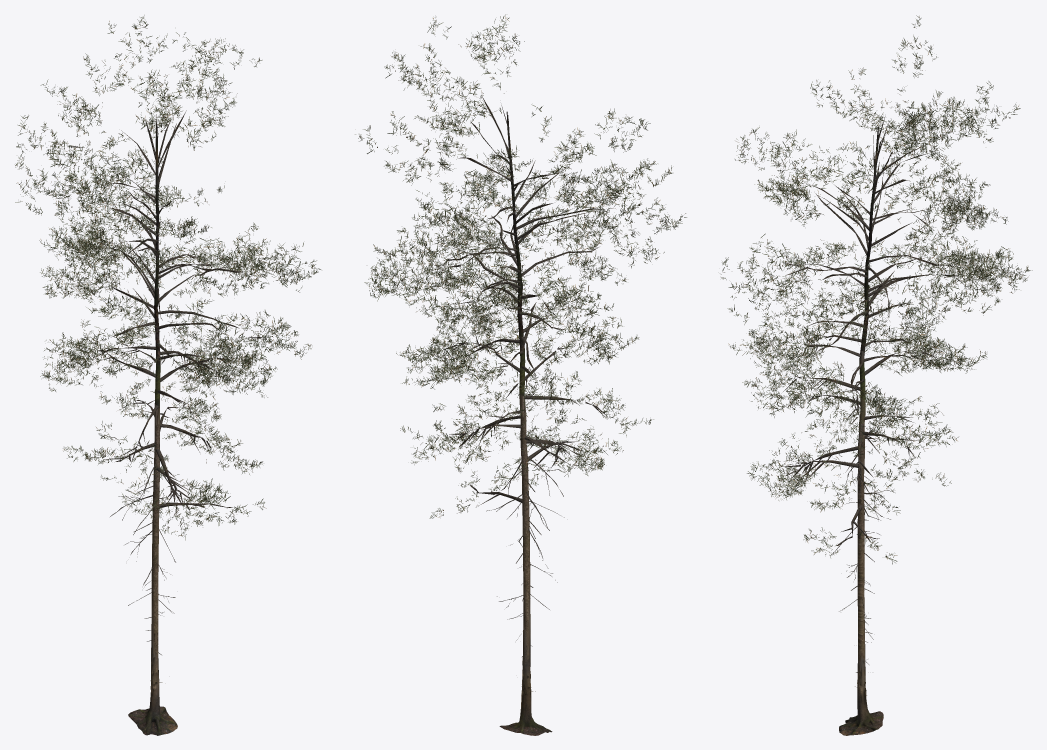
File: mature-pine.glb
3 renders of one model, left to right at view 1: azimuth 30°, elevation 25°; view 2: azimuth 150°, elevation 25°; view 3: azimuth 270°, elevation 25°, orthographic. The views are drawn at different scales.
Parts seen in each view (by area): view 1: pine_tree_01_a_LOD0; view 2: pine_tree_01_a_LOD0; view 3: pine_tree_01_a_LOD0.
Boxes of the visible parts, x1,y1,x2,y2 form: pine_tree_01_a_LOD0: [15, 15, 320, 735]; pine_tree_01_a_LOD0: [355, 14, 686, 735]; pine_tree_01_a_LOD0: [721, 15, 1032, 735].
Size of the model in its own units: 7.52 by 20.4 by 8.25.
4 materials, 4 textured.
